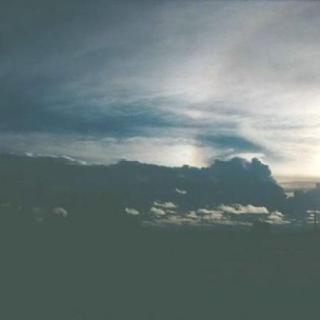Stratus: (0, 0, 320, 236)
